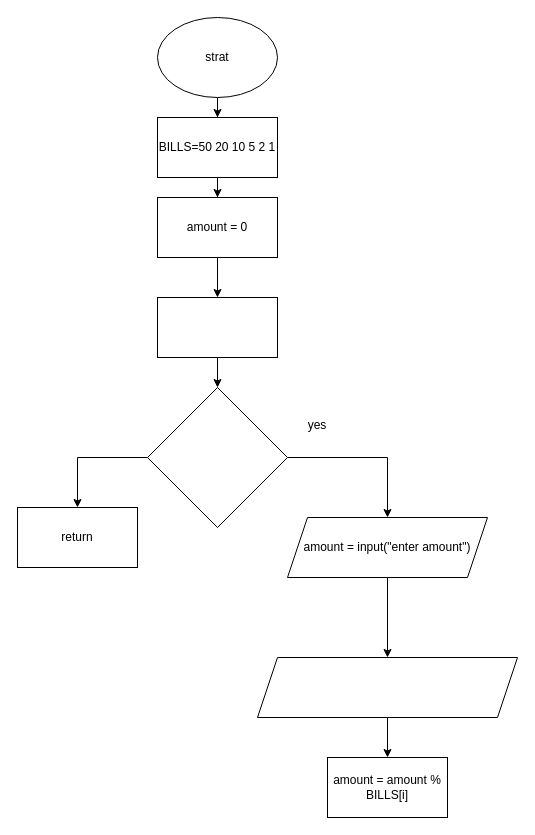
This 535x835 diagram has some shape labels left out. Each missing label, with the centre of its shape:
count = 0: (x=217, y=327)
count > 0: (x=217, y=457)
out("£" + BILLS[count] + " Bill(s): " + amount/BILLS[i]: (x=387, y=687)
